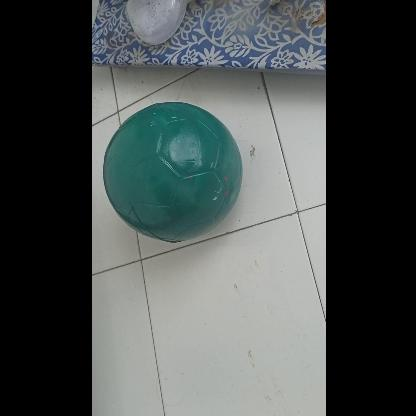green_ball: (101, 102, 239, 240)
